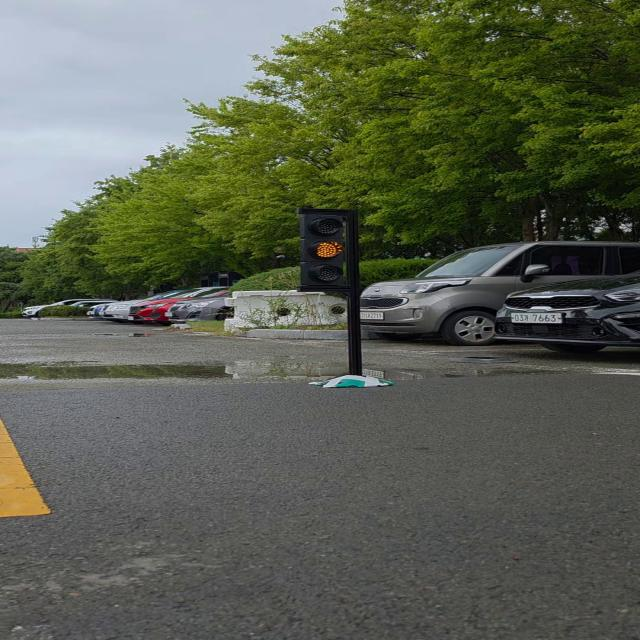yellow: (298, 206, 354, 293)
